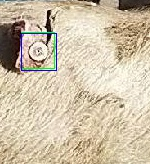text: (21, 32, 54, 68)
